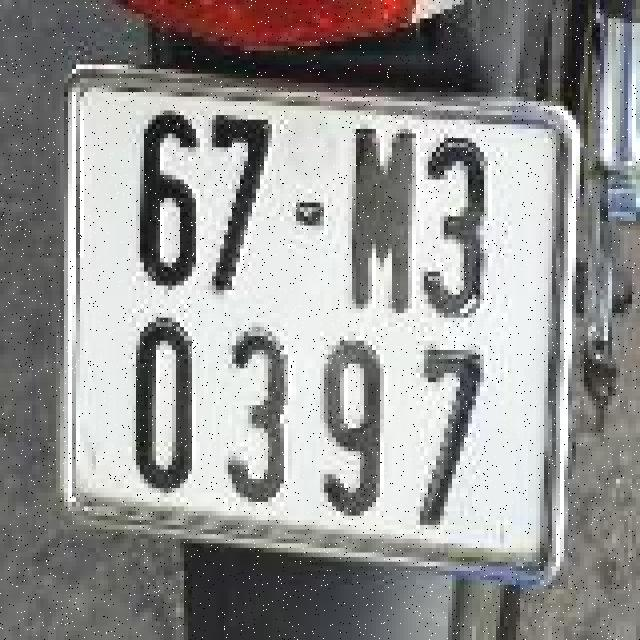0: (128, 310, 208, 500)
3: (218, 316, 298, 514), (420, 133, 500, 327)
6: (134, 108, 206, 297)
7: (416, 346, 492, 530), (202, 108, 274, 302)
9: (316, 334, 388, 518)
M: (346, 122, 418, 320)
